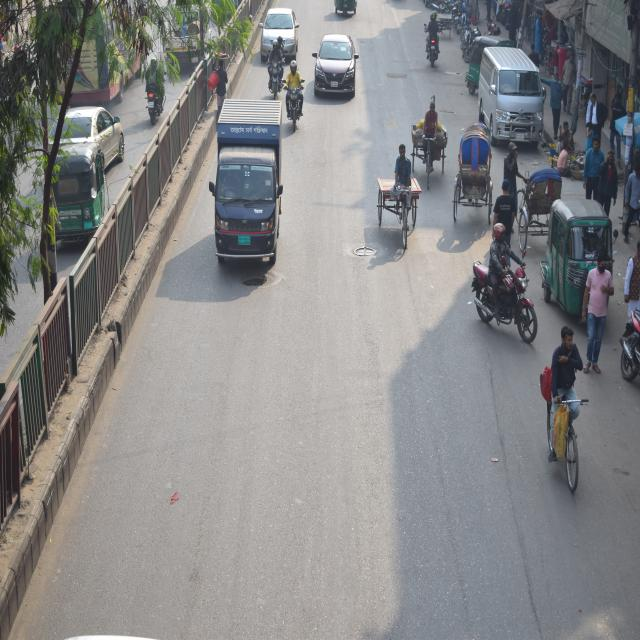car: (44, 104, 138, 184), (313, 28, 360, 106), (261, 7, 303, 60)
microbus: (471, 47, 545, 158)
motorbike: (465, 214, 544, 356), (143, 56, 168, 131), (262, 34, 286, 105), (423, 11, 447, 70), (284, 60, 303, 121)
pickup-van: (210, 92, 292, 288)
